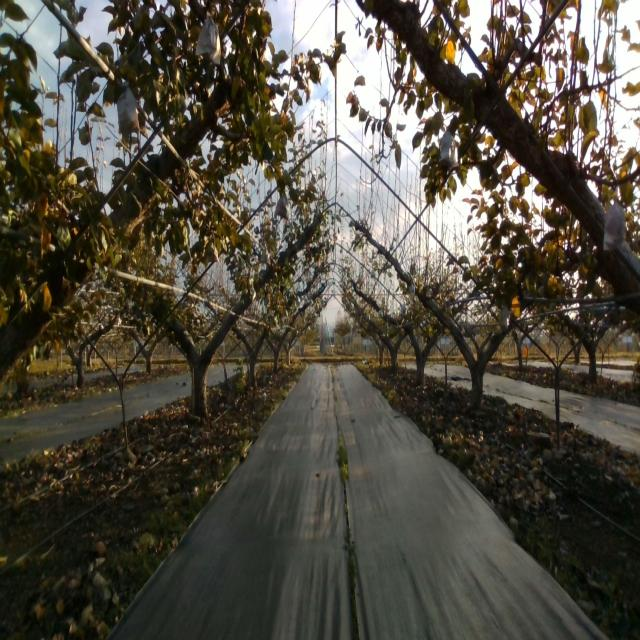pearbags: (195, 12, 221, 66), (117, 80, 140, 134), (603, 201, 626, 252), (439, 127, 459, 169), (274, 193, 290, 221), (206, 242, 219, 266), (499, 305, 509, 333)
